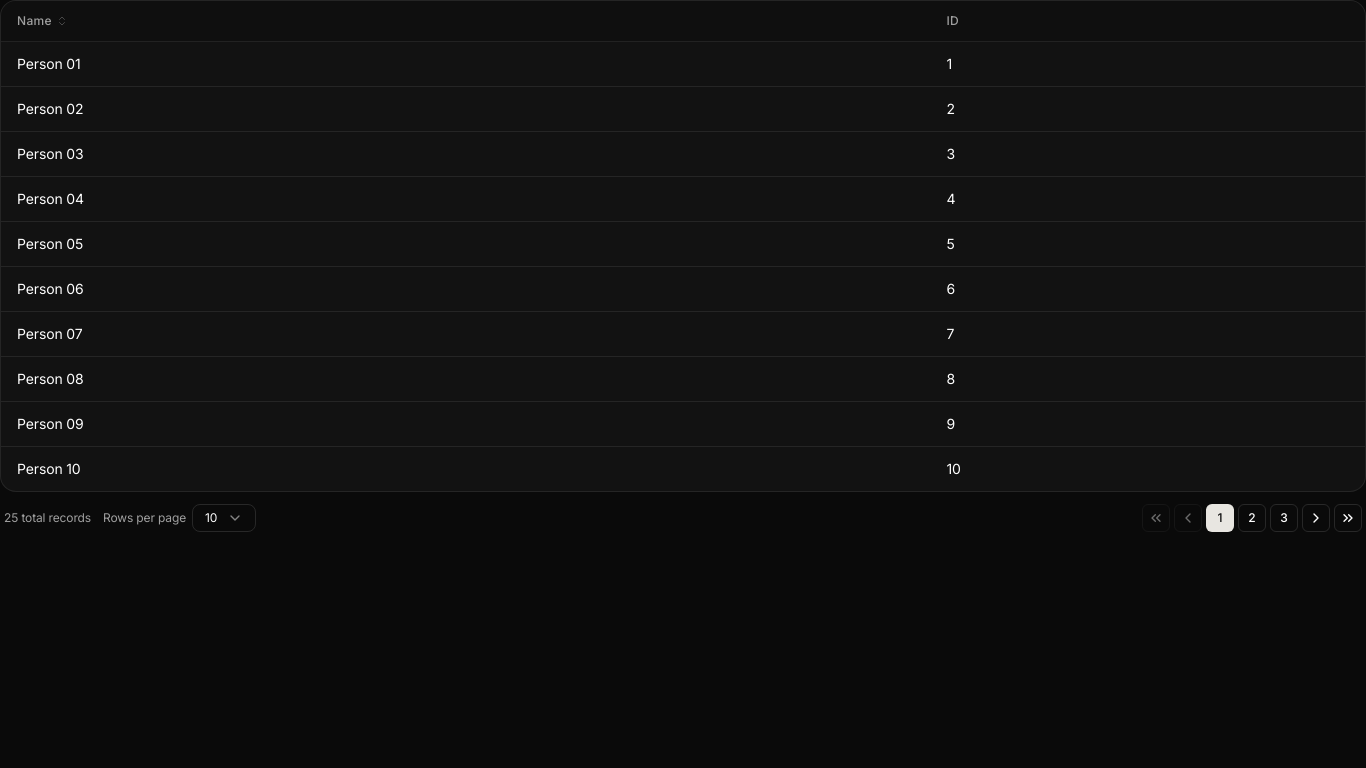
Test: DataTable › pages, and marks the current page
The width and height of the screenshot is (1366, 768).
Expected: the text "25 total records" is shown, [4, 510, 91, 526]
Click the button named "Next page": {"x": 1316, "y": 518} [1302, 504, 1330, 532]
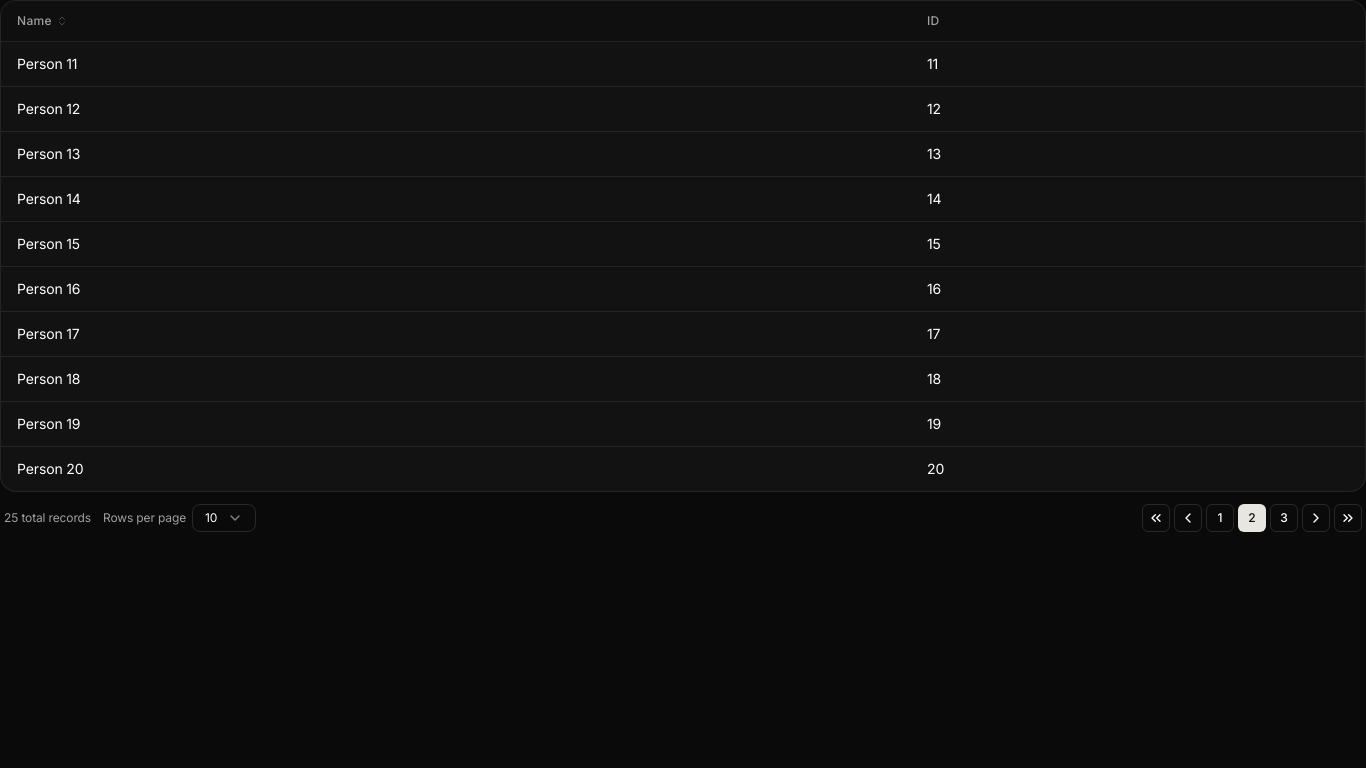
Expected: the cell "Person 11" is shown, [1, 42, 911, 86]
Click the button named "Last page": {"x": 1348, "y": 518} [1334, 504, 1362, 532]
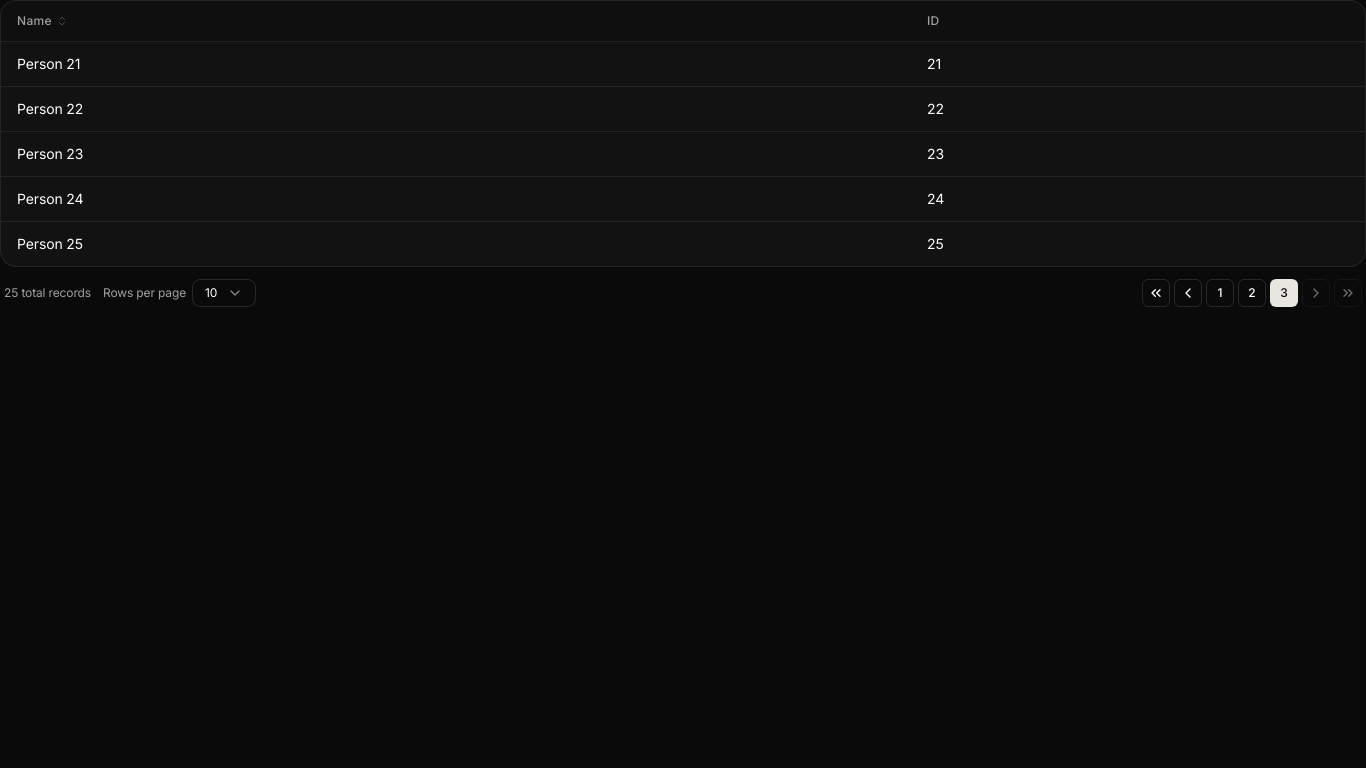
Click the button named "Page 1": {"x": 1220, "y": 293} [1206, 279, 1234, 307]
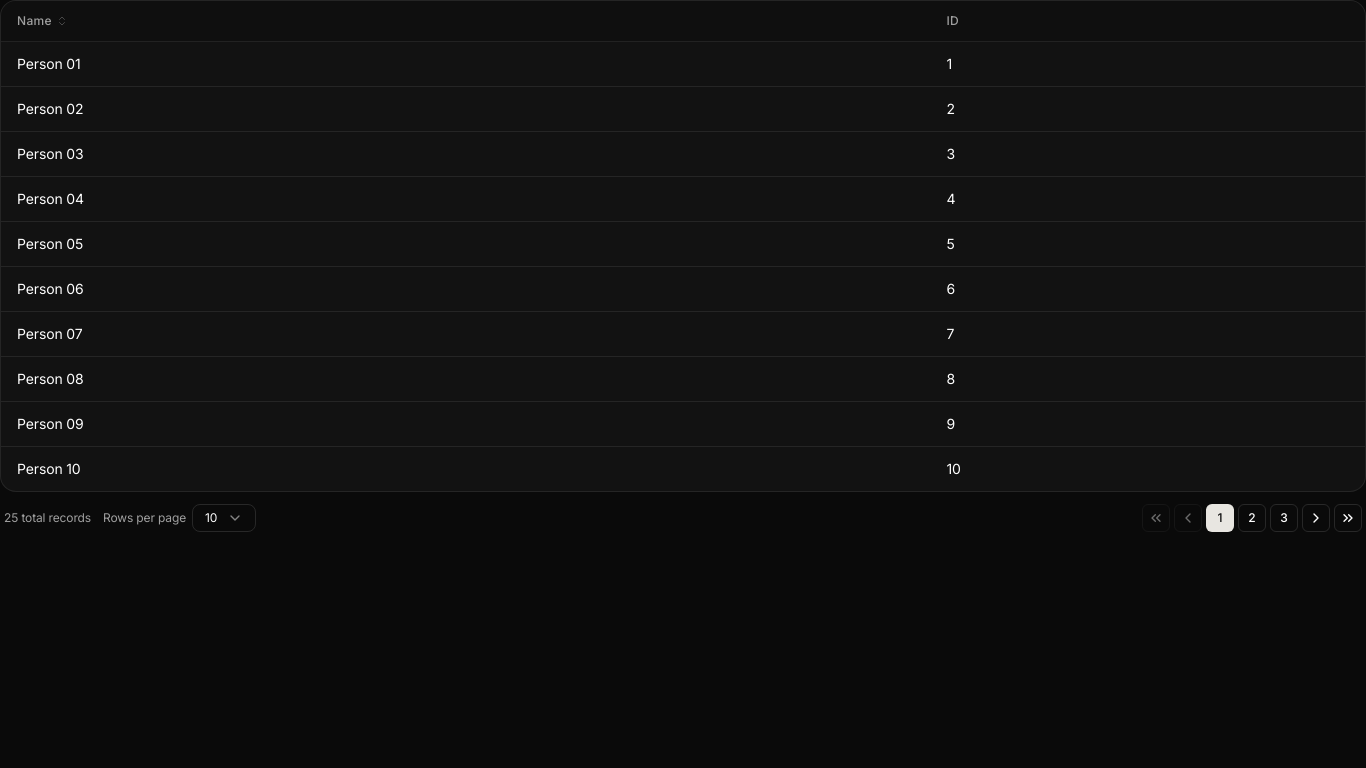
Expected: the cell "Person 01" is shown, [1, 42, 930, 86]
